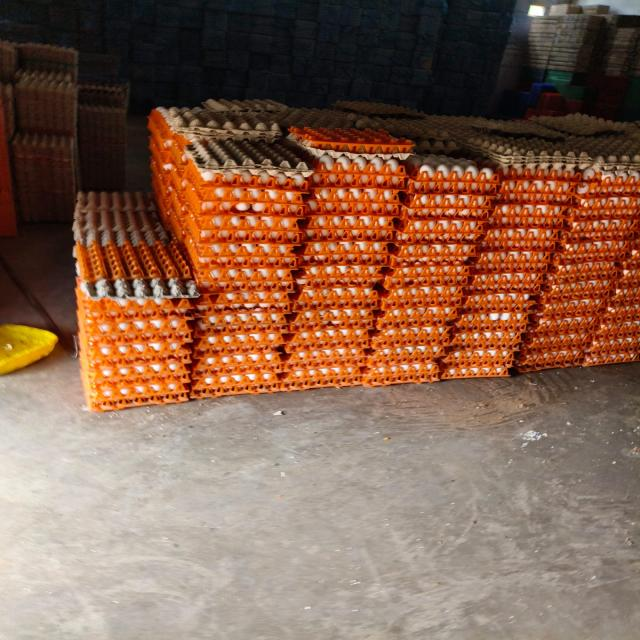egg_tray: (169, 141, 309, 397), (183, 141, 310, 396), (364, 156, 495, 385), (282, 154, 405, 390), (74, 193, 197, 410), (441, 170, 562, 378), (517, 170, 638, 370), (457, 167, 577, 364), (149, 110, 310, 237), (182, 140, 311, 291), (284, 216, 392, 388), (385, 156, 492, 308), (192, 244, 294, 396), (76, 286, 191, 410), (301, 154, 405, 286), (387, 157, 490, 287), (78, 291, 190, 410), (475, 166, 579, 294), (74, 193, 194, 297), (283, 265, 380, 388), (476, 167, 575, 284), (373, 294, 528, 368), (394, 156, 497, 267), (282, 277, 379, 390), (516, 262, 614, 370), (192, 291, 290, 397), (191, 292, 289, 397), (193, 292, 291, 397), (177, 140, 312, 215), (181, 140, 312, 214), (456, 118, 639, 169), (296, 205, 398, 295), (556, 170, 639, 279), (363, 286, 453, 385), (191, 346, 364, 397), (77, 291, 190, 366), (516, 280, 610, 370), (184, 187, 305, 256), (440, 290, 530, 378), (465, 118, 620, 169), (76, 279, 197, 344), (439, 292, 529, 378), (465, 129, 639, 171), (452, 273, 533, 363), (372, 282, 461, 362), (475, 196, 564, 276), (423, 116, 565, 166), (297, 216, 395, 288), (307, 154, 406, 223), (565, 169, 639, 261), (585, 239, 639, 364), (76, 281, 197, 336), (185, 234, 299, 292), (516, 296, 605, 370), (583, 250, 639, 365), (186, 138, 311, 188), (363, 313, 447, 385), (192, 332, 282, 398), (465, 252, 548, 322), (281, 324, 369, 390), (11, 132, 76, 221), (454, 292, 533, 365), (192, 333, 282, 397), (310, 152, 406, 212), (172, 162, 310, 201), (384, 245, 470, 306), (172, 162, 310, 200), (148, 109, 188, 239), (82, 361, 188, 410), (185, 212, 302, 256), (74, 239, 190, 283), (82, 362, 188, 410), (73, 192, 168, 245), (516, 312, 601, 371), (562, 196, 639, 261), (371, 299, 449, 363), (363, 326, 446, 386), (194, 245, 296, 293), (190, 351, 282, 398), (194, 291, 292, 335), (287, 127, 413, 161), (14, 68, 77, 135), (538, 262, 619, 313), (156, 107, 281, 140), (287, 127, 413, 159), (404, 154, 498, 196), (292, 264, 381, 308), (483, 204, 565, 251), (77, 306, 190, 340), (356, 117, 459, 154), (466, 136, 593, 166), (405, 154, 499, 194), (281, 346, 366, 390), (381, 276, 464, 319), (287, 307, 374, 348), (185, 185, 303, 215), (564, 196, 639, 243), (542, 254, 617, 301), (289, 127, 414, 155), (497, 164, 581, 205), (490, 198, 568, 241), (192, 351, 282, 388), (311, 154, 406, 189), (151, 157, 190, 242), (362, 346, 439, 386), (151, 161, 189, 242), (300, 210, 396, 242), (194, 243, 298, 272), (151, 160, 188, 241), (285, 318, 370, 353), (4, 41, 78, 81), (475, 236, 553, 273), (307, 187, 401, 217), (194, 305, 288, 334), (148, 109, 189, 175), (278, 358, 362, 390), (382, 261, 471, 291), (78, 278, 198, 300), (147, 108, 189, 170), (455, 296, 527, 332), (194, 291, 293, 317), (299, 241, 390, 269), (295, 263, 386, 291), (466, 134, 543, 166), (404, 192, 494, 219), (356, 114, 449, 140), (466, 265, 543, 296), (0, 84, 17, 220), (532, 114, 634, 136), (440, 348, 512, 379), (12, 132, 74, 168), (471, 118, 567, 140), (292, 286, 380, 310), (422, 115, 477, 153), (288, 308, 375, 332), (465, 292, 533, 321), (274, 108, 359, 131), (76, 191, 156, 214), (149, 135, 185, 185), (576, 168, 639, 196), (449, 327, 519, 352), (333, 100, 424, 118), (422, 114, 490, 133), (203, 98, 289, 113), (149, 135, 174, 185), (165, 134, 189, 184), (147, 108, 175, 149), (237, 273, 291, 294), (411, 134, 461, 155), (0, 82, 16, 146), (0, 40, 19, 84), (305, 347, 353, 354), (92, 298, 141, 304), (559, 264, 578, 278), (483, 169, 495, 190), (351, 270, 366, 284), (312, 187, 331, 198), (595, 282, 607, 298), (371, 207, 395, 214), (335, 265, 347, 278), (482, 278, 501, 286), (516, 294, 527, 307), (310, 199, 325, 208), (347, 265, 366, 272), (519, 287, 538, 293), (0, 44, 5, 66), (150, 299, 165, 306), (207, 272, 221, 279), (447, 182, 457, 191), (299, 363, 313, 369), (303, 267, 316, 273), (257, 246, 270, 252), (522, 252, 531, 260), (443, 122, 455, 128), (170, 140, 176, 152), (489, 316, 506, 320), (192, 228, 198, 239), (590, 358, 602, 363), (610, 343, 617, 351), (520, 279, 528, 286), (202, 229, 207, 240), (559, 187, 564, 197), (154, 222, 159, 232), (509, 274, 519, 279), (231, 378, 239, 384), (267, 194, 275, 200), (407, 307, 418, 311), (291, 371, 299, 376), (475, 154, 487, 157), (473, 282, 482, 286), (4, 222, 9, 229), (394, 365, 399, 372), (230, 245, 238, 249), (271, 255, 279, 259), (267, 194, 275, 198), (372, 221, 377, 227), (294, 198, 299, 204), (535, 278, 541, 283), (586, 274, 596, 277), (0, 70, 4, 77), (255, 208, 262, 212), (432, 151, 446, 153), (397, 295, 402, 300), (172, 152, 177, 157), (153, 188, 157, 194), (451, 245, 457, 249), (326, 206, 332, 210), (380, 203, 386, 207), (114, 354, 120, 358), (293, 204, 299, 208), (0, 51, 3, 59), (461, 248, 465, 253), (543, 198, 548, 202), (95, 339, 100, 343), (556, 285, 561, 289), (155, 301, 160, 305), (508, 278, 518, 280), (297, 272, 300, 278), (273, 333, 279, 336), (176, 293, 182, 296), (253, 238, 262, 240), (269, 196, 275, 199), (233, 254, 237, 258), (238, 208, 246, 210), (550, 277, 554, 281), (324, 267, 329, 270), (225, 291, 230, 294), (493, 360, 498, 363), (114, 372, 117, 377), (102, 354, 109, 356), (0, 44, 2, 51), (173, 165, 176, 169), (103, 306, 107, 309), (381, 221, 385, 224), (114, 286, 116, 292), (387, 296, 393, 298), (401, 356, 404, 360), (587, 275, 593, 277), (547, 159, 551, 162), (385, 280, 388, 284), (361, 167, 364, 171), (508, 277, 513, 279), (344, 188, 349, 190), (467, 150, 469, 155), (201, 184, 206, 186), (230, 192, 232, 197), (130, 300, 135, 302), (116, 299, 121, 301), (451, 249, 454, 252), (534, 185, 537, 188), (230, 221, 233, 224), (256, 270, 265, 271), (291, 325, 294, 328), (518, 287, 521, 290), (177, 365, 180, 368), (269, 376, 273, 378), (399, 304, 403, 306), (0, 72, 2, 76), (605, 152, 609, 154), (278, 270, 286, 271), (501, 274, 503, 278), (341, 160, 343, 164), (531, 290, 535, 292), (582, 294, 589, 295), (145, 300, 148, 302), (305, 273, 308, 275), (356, 350, 359, 352), (585, 116, 588, 118), (604, 347, 606, 350), (452, 350, 455, 352), (11, 223, 13, 226), (219, 206, 222, 208), (239, 209, 245, 210), (523, 275, 525, 278), (380, 362, 383, 364), (403, 365, 406, 367), (493, 296, 495, 299), (475, 371, 478, 373), (357, 161, 359, 164), (385, 314, 387, 317), (92, 300, 97, 301), (308, 274, 310, 276), (471, 297, 473, 299), (379, 362, 383, 363), (154, 189, 156, 191), (201, 149, 203, 151), (452, 362, 454, 364), (238, 238, 240, 240), (257, 209, 261, 210), (78, 293, 80, 295), (81, 358, 82, 362), (554, 176, 557, 177), (355, 190, 358, 191), (527, 283, 530, 284), (165, 158, 168, 159), (265, 221, 268, 222), (219, 305, 222, 306), (176, 365, 179, 366), (501, 363, 504, 364), (487, 230, 488, 233), (539, 127, 542, 128), (359, 272, 361, 273), (404, 303, 405, 305), (212, 247, 214, 248), (356, 358, 358, 359), (222, 195, 223, 197), (0, 64, 1, 66), (10, 49, 12, 50), (600, 158, 602, 159), (365, 300, 367, 301), (489, 278, 491, 279), (406, 380, 408, 381), (371, 282, 373, 283), (514, 282, 515, 284), (81, 364, 82, 366), (363, 207, 364, 208), (422, 320, 423, 321), (453, 364, 454, 365), (373, 338, 374, 339), (105, 307, 106, 308), (382, 162, 383, 163), (418, 147, 419, 148), (492, 286, 492, 290), (454, 352, 454, 352), (514, 301, 514, 301), (142, 294, 144, 294), (87, 290, 88, 290), (421, 274, 421, 274), (341, 188, 341, 188), (74, 210, 75, 210), (604, 360, 606, 360), (436, 152, 442, 152), (441, 134, 443, 134), (294, 219, 294, 219), (477, 354, 481, 354), (490, 189, 490, 190), (228, 192, 228, 194), (234, 290, 235, 290), (238, 270, 239, 270), (83, 370, 83, 371), (386, 283, 388, 283), (387, 383, 388, 383), (498, 299, 499, 299), (83, 294, 83, 294), (81, 292, 81, 292), (341, 363, 343, 363), (152, 299, 152, 299), (336, 168, 338, 168), (567, 151, 567, 152), (574, 294, 575, 294), (105, 376, 106, 376), (165, 156, 165, 157)
